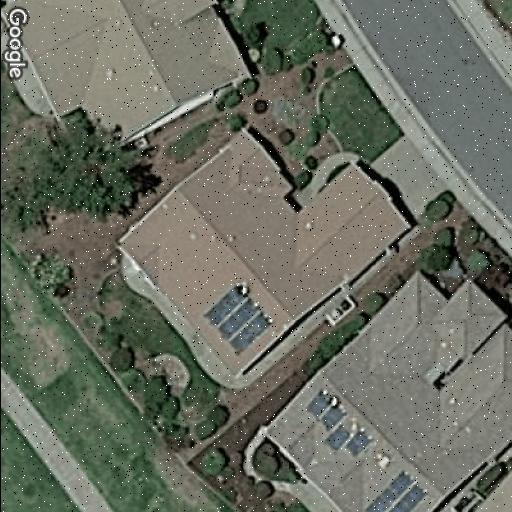solar-panel: (202, 282, 274, 356), (306, 389, 370, 459), (359, 471, 427, 512)
